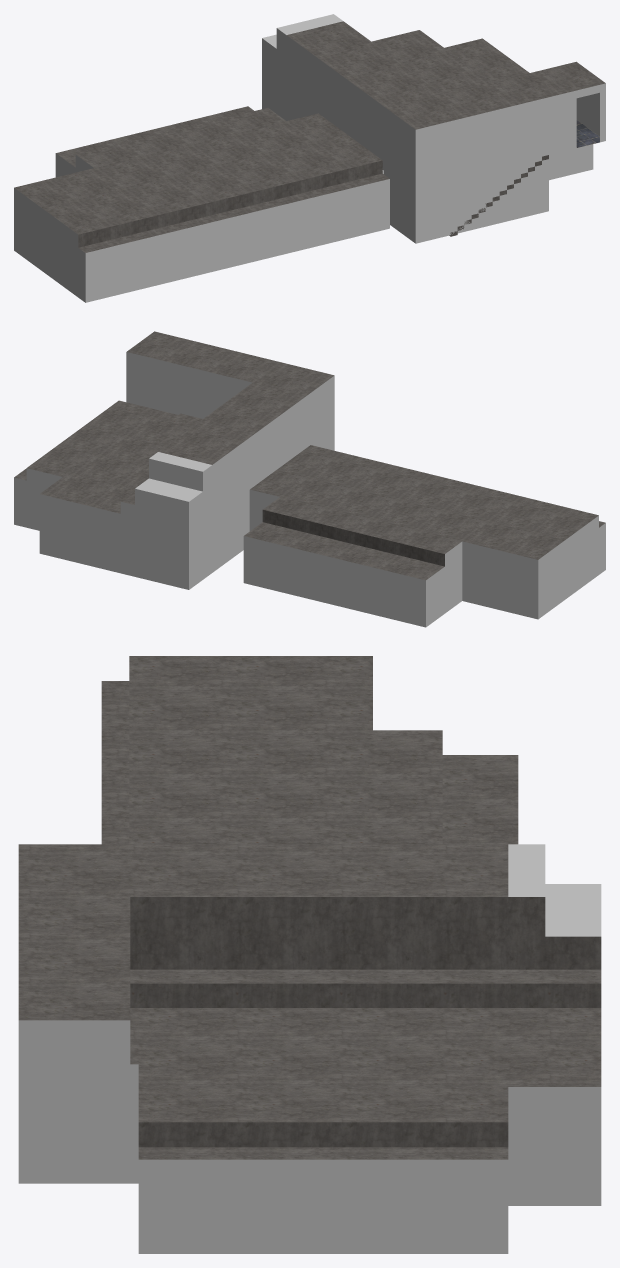
The model's file is SET1.fbx.
The picture shows the model from 3 angles, top to bottom: view 1: azimuth 30°, elevation 25°; view 2: azimuth 150°, elevation 25°; view 3: azimuth 270°, elevation 25°; orthographic projection. The views are drawn at different scales.
Parts seen in each view (by area): view 1: Room1, Room2, Staits1; view 2: Room2, Room1; view 3: Room2, Room1.
Part boxes in pixels (x1=…): Room1: x1=14, y1=106, x2=389, y2=302; Room2: x1=262, y1=14, x2=605, y2=243; Staits1: x1=449, y1=155, x2=548, y2=236; Room2: x1=14, y1=331, x2=334, y2=589; Room1: x1=243, y1=445, x2=605, y2=627; Room2: x1=18, y1=844, x2=601, y2=1253; Room1: x1=101, y1=656, x2=518, y2=844.
Bounding box in the file's own units: 2720 × 580 × 1400.
